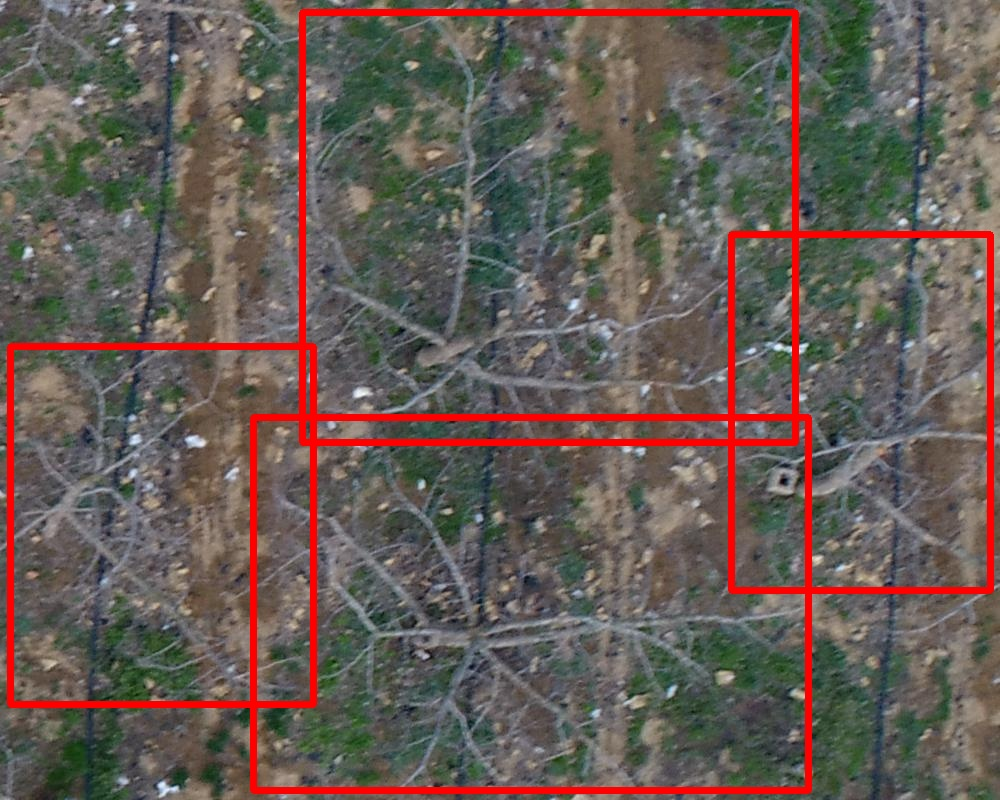apple: (302, 12, 795, 442), (253, 417, 808, 790), (10, 346, 313, 704), (731, 234, 990, 590)
